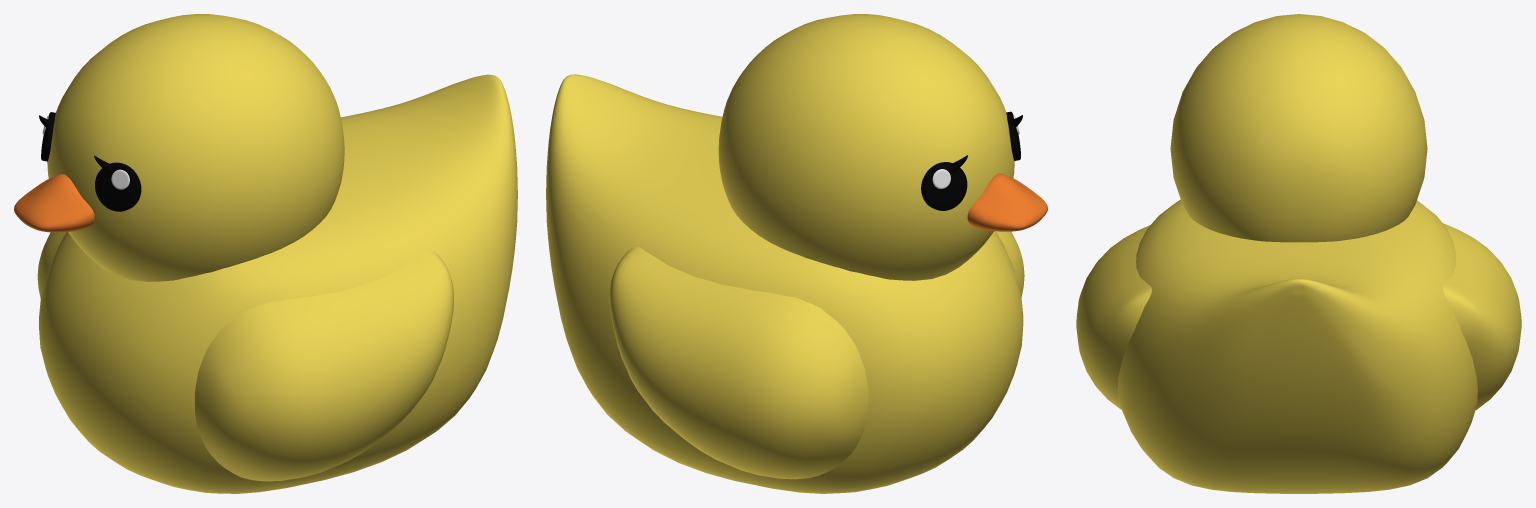
File: duck.fbx
3 views of the same model, side by side, from view 1: azimuth 30°, elevation 25°; view 2: azimuth 150°, elevation 25°; view 3: azimuth 270°, elevation 25° (orthographic). The views are drawn at different scales.
Visible parts, largest first — view 1: Cube.001; view 2: Cube.001; view 3: Cube.001.
Part boxes in pixels (box(x1,y1,x2,y2)): Cube.001: box(14, 14, 517, 493); Cube.001: box(546, 14, 1047, 493); Cube.001: box(1076, 14, 1521, 493).
Size of the model in its own units: 35.26 by 31.23 by 30.62.
